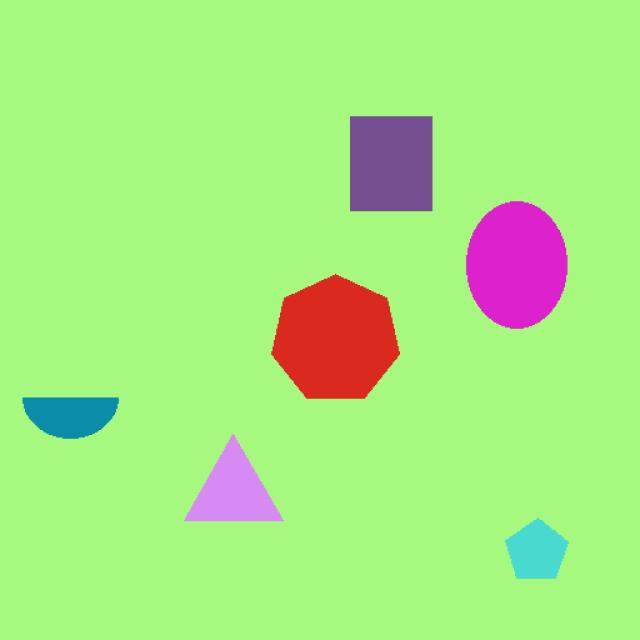Circle: (464, 198, 586, 344)
Heptagon: (251, 263, 403, 427)
Pentagon: (493, 507, 595, 593)
Semicircle: (18, 384, 138, 456)
Triangle: (180, 426, 308, 544)
square: (336, 104, 461, 232)
